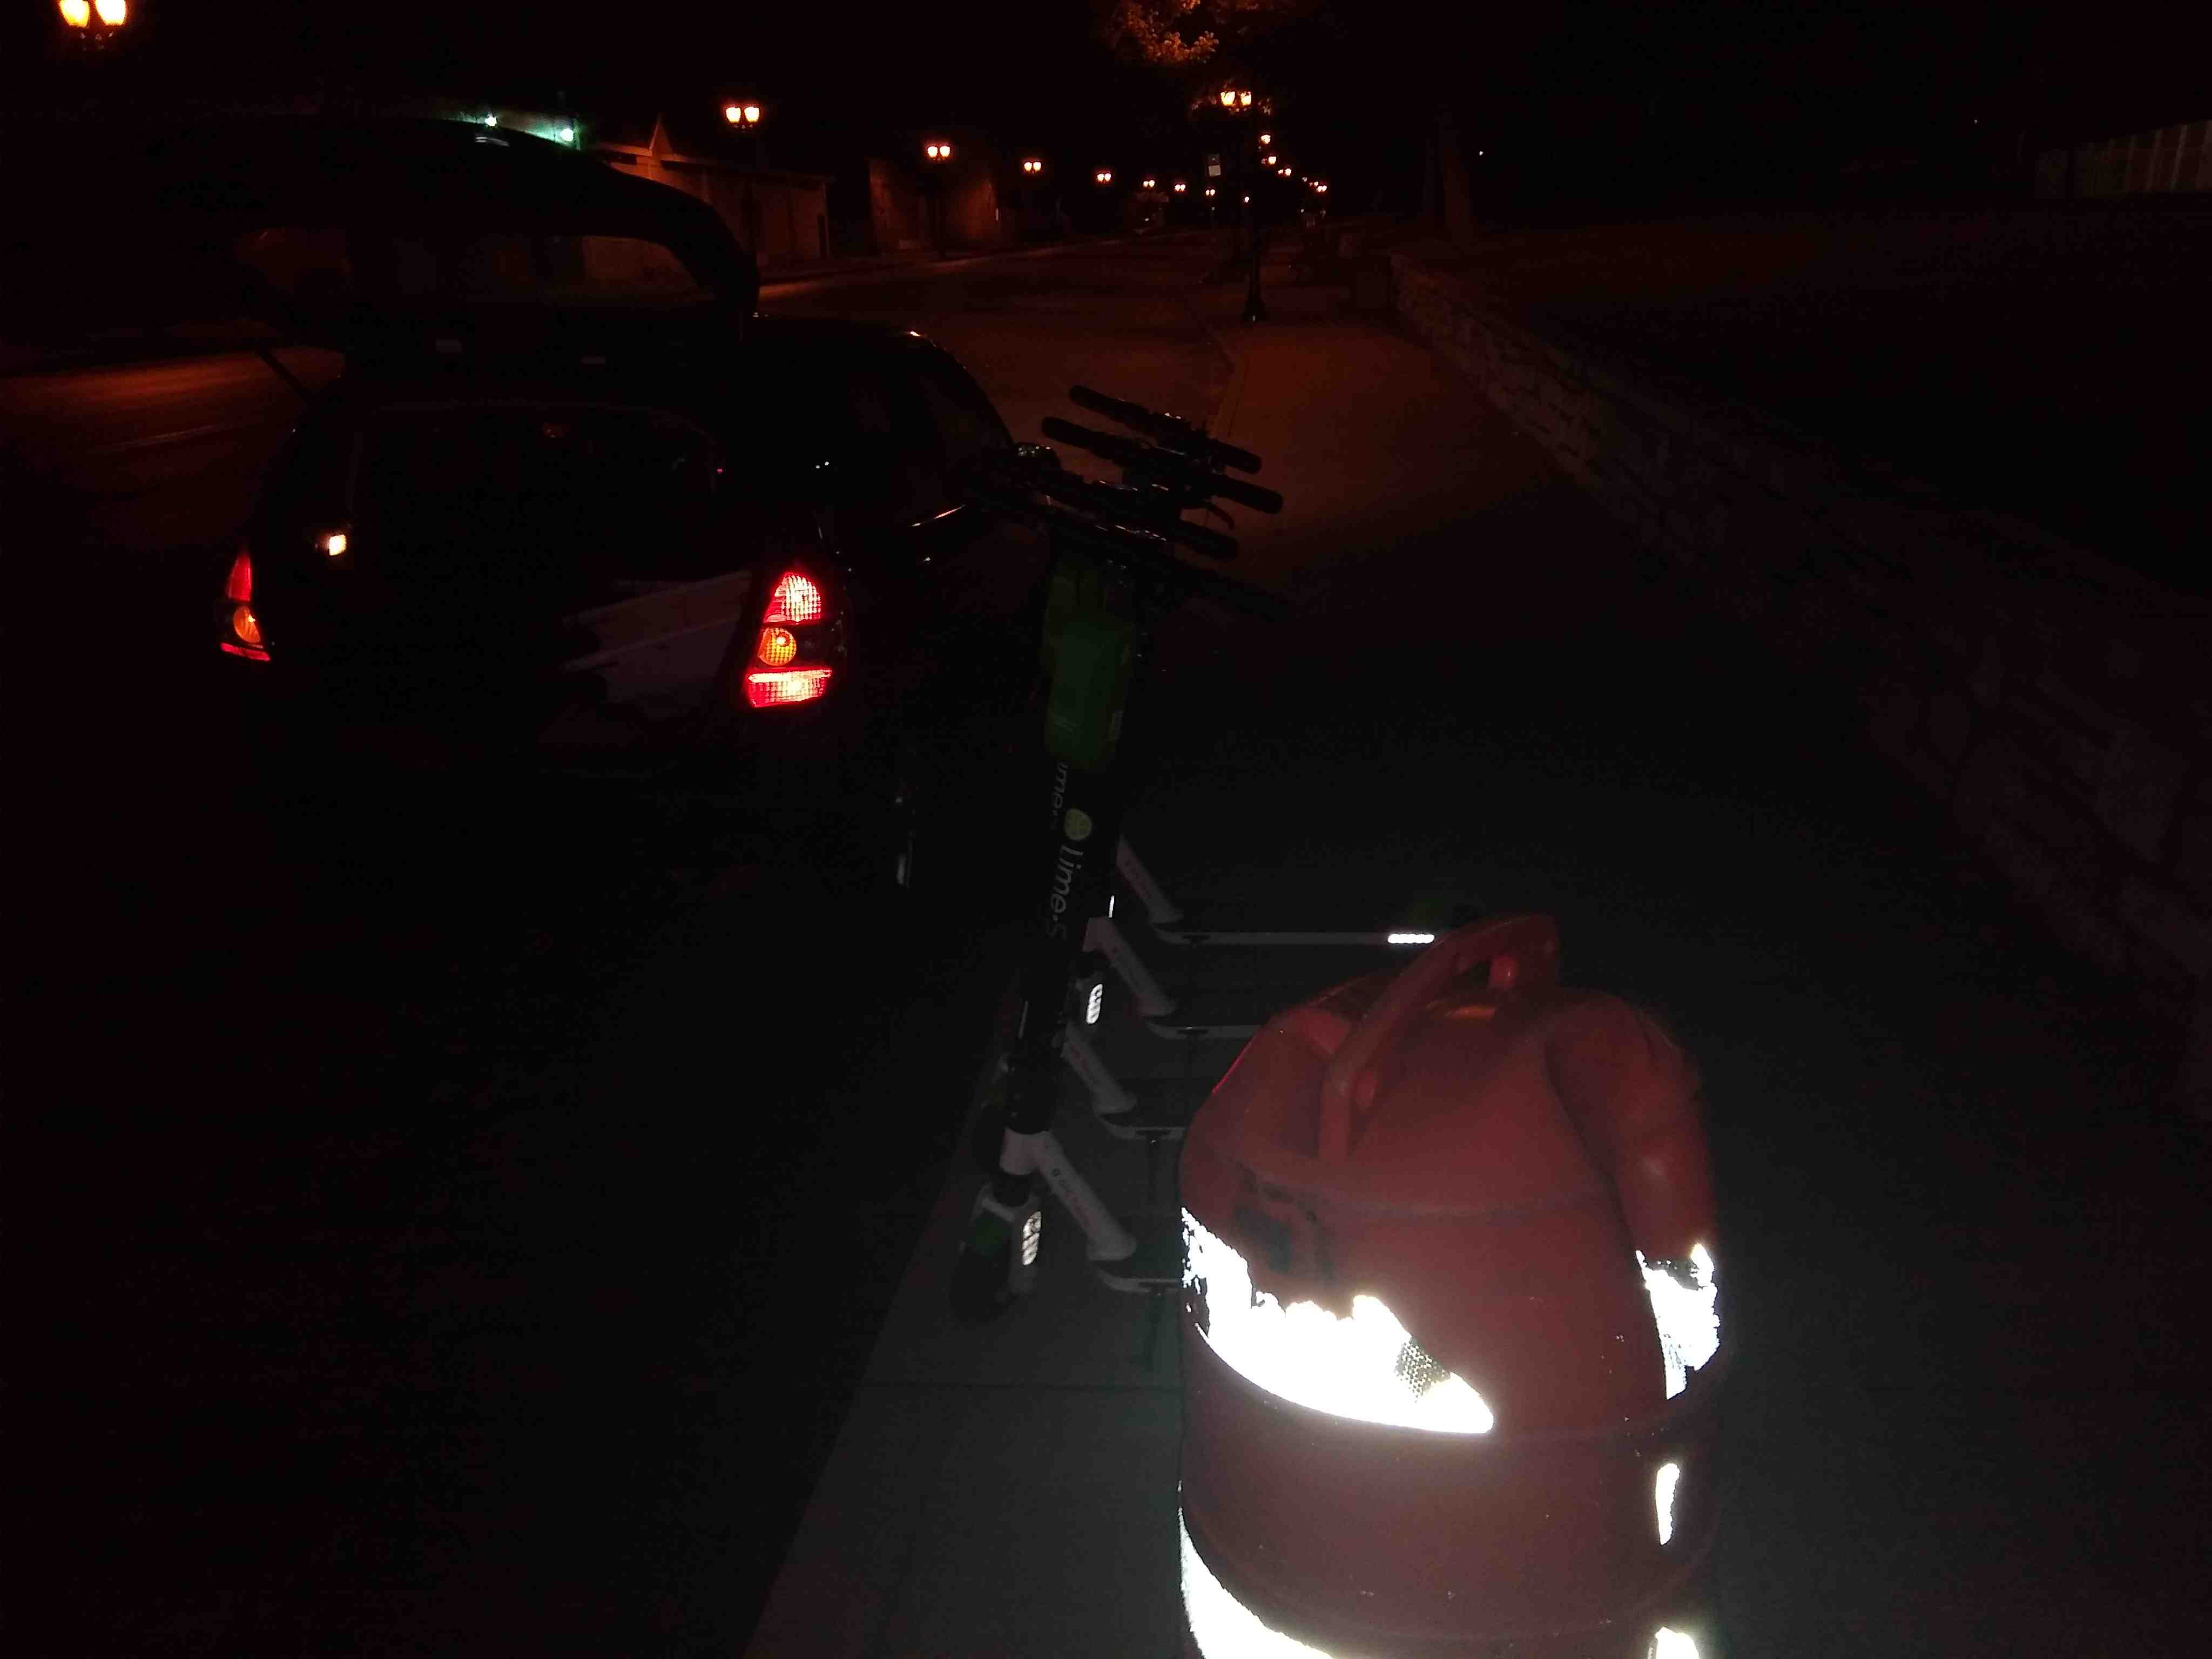too close: (871, 1107, 1132, 1331)
